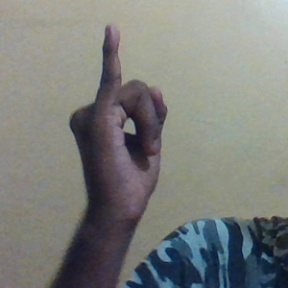I: (68, 26, 175, 205)
